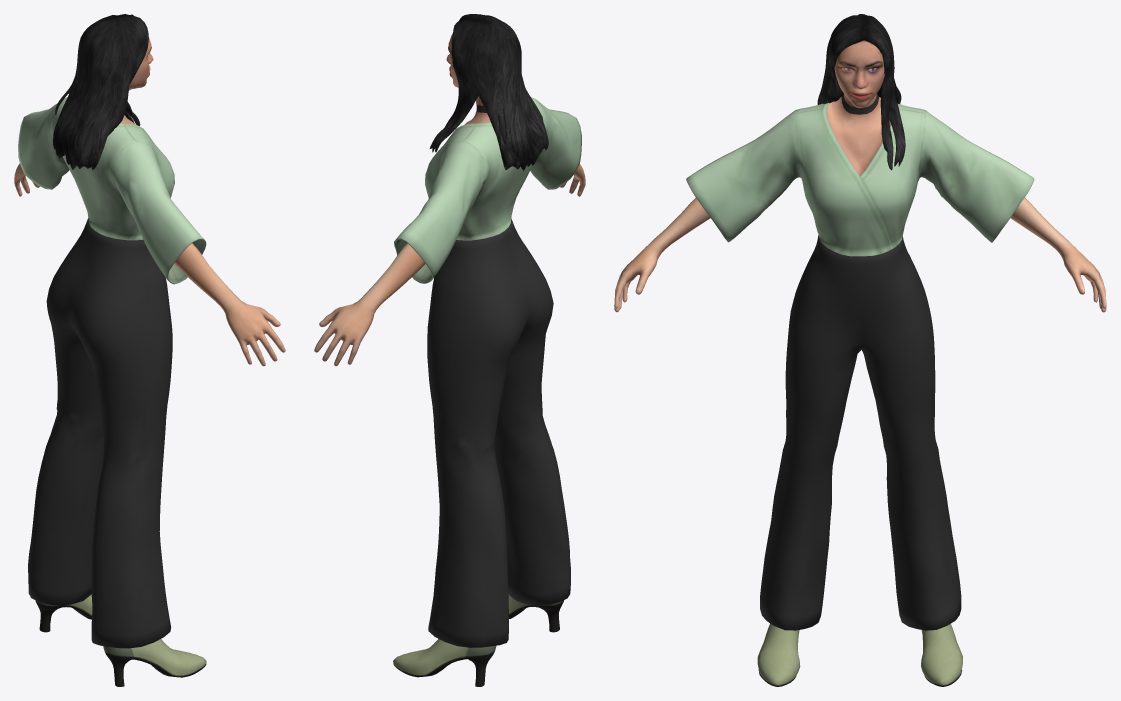
The model's file is sm_longhairwoman_web.fbx.
The picture shows the model from 3 angles, left to right: view 1: azimuth 30°, elevation 25°; view 2: azimuth 150°, elevation 25°; view 3: azimuth 270°, elevation 25°; orthographic projection. The views are drawn at different scales.
Parts seen in each view (by area): view 1: sm_longhairwoman_web; view 2: sm_longhairwoman_web; view 3: sm_longhairwoman_web.
Boxes of the visible parts, bbox=[...] form: sm_longhairwoman_web: bbox=[14, 14, 285, 686]; sm_longhairwoman_web: bbox=[314, 14, 585, 686]; sm_longhairwoman_web: bbox=[614, 14, 1106, 686].
Size of the model in its own units: 0.3304 by 1.8 by 1.24.
3 materials, 3 textured.
